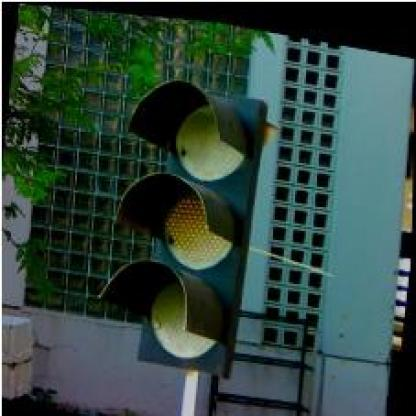yellow: (107, 74, 267, 378)
